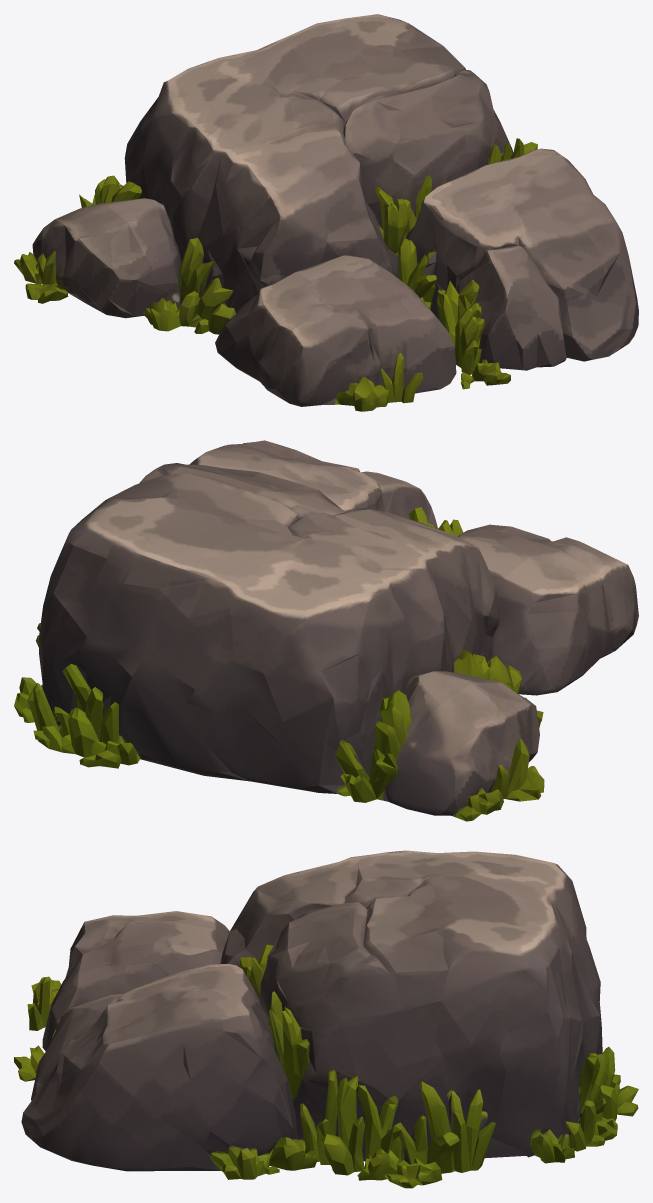
The model's file is Meshy_AI_Wild_Wanderer_1016215008_texture.fbx.
The picture shows the model from 3 angles, top to bottom: view 1: azimuth 30°, elevation 25°; view 2: azimuth 150°, elevation 25°; view 3: azimuth 270°, elevation 25°; orthographic projection. The views are drawn at different scales.
Visible parts, largest first — view 1: output_unwrapped; view 2: output_unwrapped; view 3: output_unwrapped.
Part boxes in pixels (x1=…): output_unwrapped: x1=14, y1=14, x2=638, y2=411; output_unwrapped: x1=14, y1=440, x2=638, y2=821; output_unwrapped: x1=14, y1=850, x2=638, y2=1188.
Bounding box in the file's own units: 185 × 65.1 × 189.
Materials: 1 (1 with a texture image).
